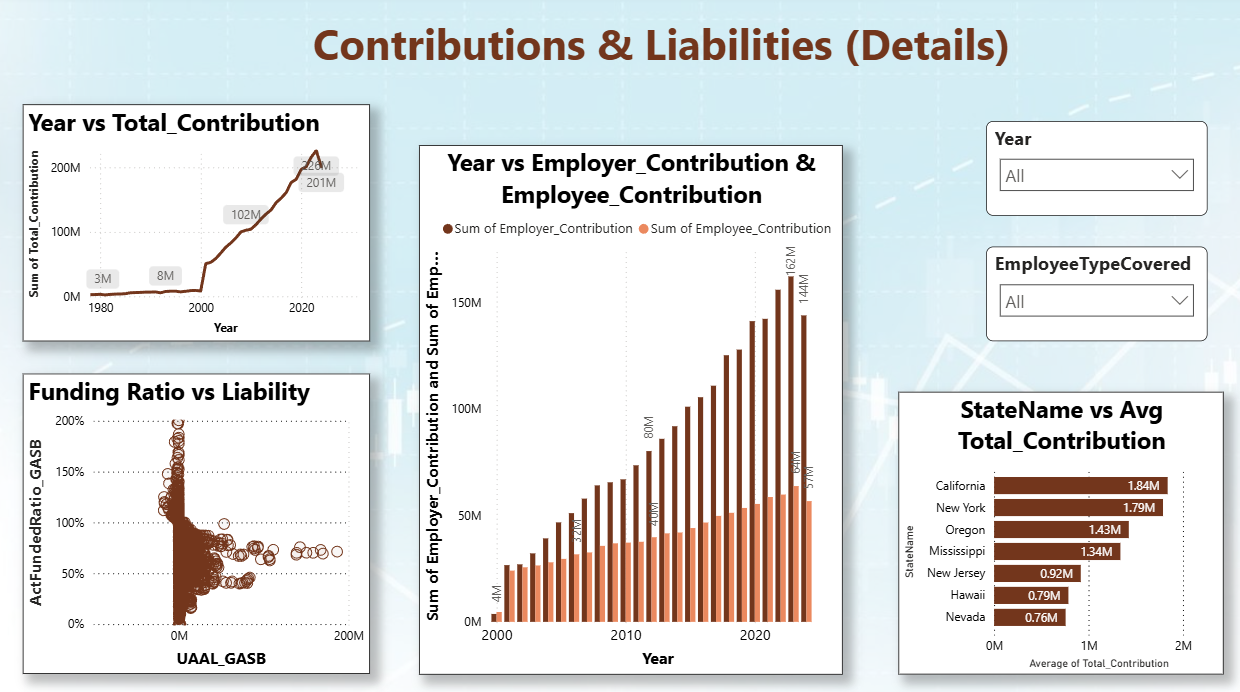

The page's visual inventory and layout, read from the dashboard file:
{"tool":"powerbi","page":{"name":"Contributions & Liabilities (Details)","canvas":[1280,720],"ordinal":1},"visuals":[{"type":"textbox","box":[192,16,976,80],"z":1000},{"type":"slicer","title":"Year","fields":{"Values":["cleaned_data.Year"]},"box":[55.2,122.6,219.1,82.7],"z":2000},{"type":"slicer","title":"EmployeeTypeCovered","fields":{"Values":["cleaned_data.EmployeeTypeCovered"]},"box":[55.2,249.7,219.1,87.3],"z":3000},{"type":"scatterChart","title":"Funding Ratio vs Liability","fields":{"Y":["cleaned_data.ActFundedRatio_GASB"],"X":["cleaned_data.UAAL_GASB"]},"box":[30.6,375.4,352.4,315.6],"z":4000},{"type":"lineChart","title":"Year vs Total_Contribution","fields":{"Category":["cleaned_data.Year"],"Y":["Sum(cleaned_data.Total_Contribution)"]},"box":[919.3,122.6,329.4,251.3],"z":5000},{"type":"clusteredColumnChart","title":"Year vs Employer_Contribution & Employee_Contribution","fields":{"Category":["cleaned_data.Year"],"Y":["Sum(cleaned_data.Employer_Contribution)","Sum(cleaned_data.Employee_Contribution)"]},"box":[433.6,153.2,429,536.2],"z":5500},{"type":"clusteredBarChart","title":"StateName vs Avg Total_Contribution","fields":{"Category":["cleaned_data.StateName"],"Y":["Avg(cleaned_data.Total_Contribution)"]},"box":[919.3,403,329.4,286.5],"z":6000}]}

Visuals, with their boxes in screenshot pixels (x1, y1, x2, y2), scaled from the page's 1280x720 canvas onto the 1240x692 screenshot:
textbox: 186 15 1132 92
"Year" slicer: 53 118 266 197
"EmployeeTypeCovered" slicer: 53 240 266 324
"Funding Ratio vs Liability" scatterChart: 30 361 371 664
"Year vs Total_Contribution" lineChart: 891 118 1210 359
"Year vs Employer_Contribution & Employee_Contribution" clusteredColumnChart: 420 147 836 663
"StateName vs Avg Total_Contribution" clusteredBarChart: 891 387 1210 663
